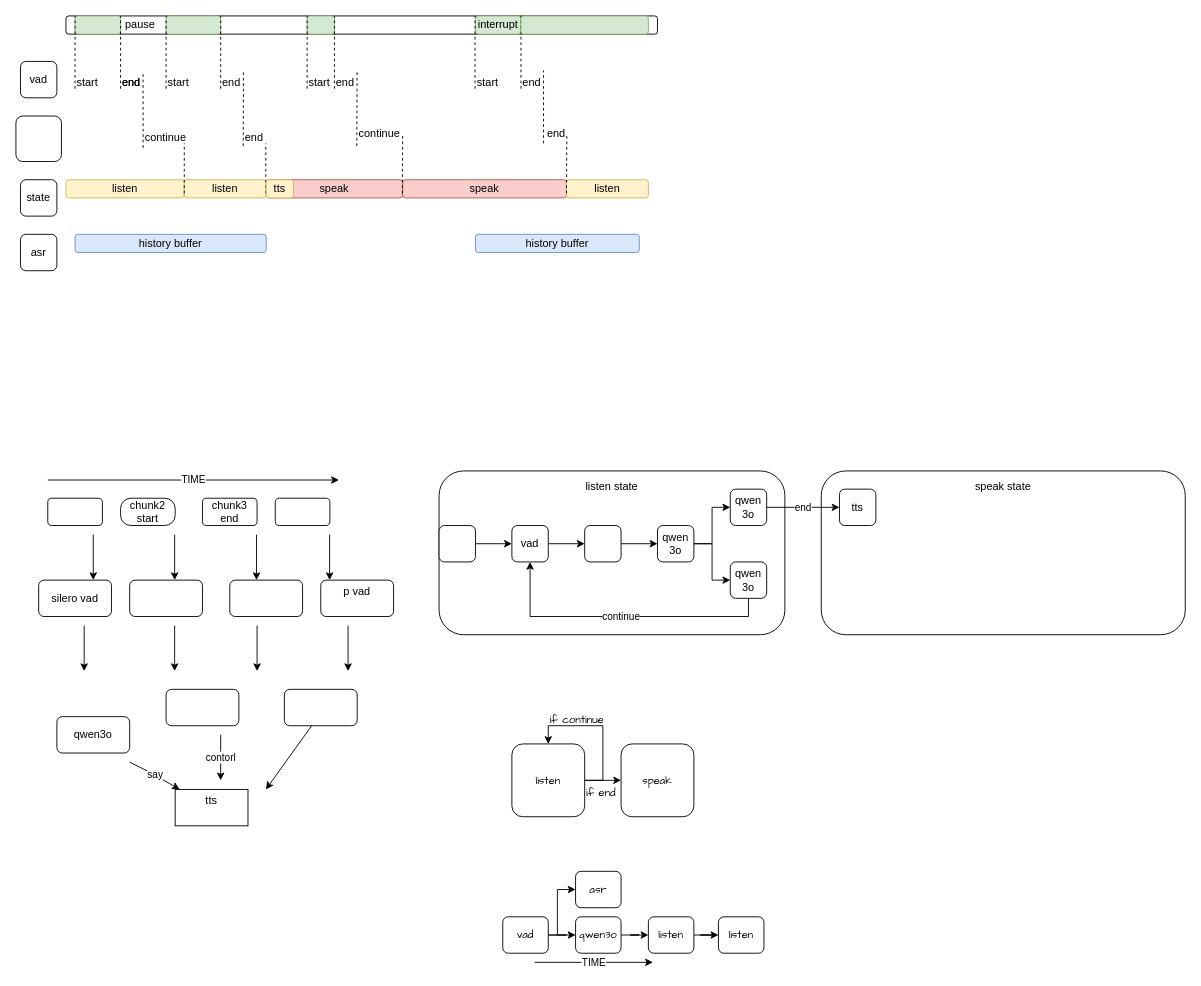
The diagram is 1201 pixels wide and 986 high, and some of its shapes have lost their labels. The shapes that lost their labels are listed below. From the top down, each one's centre as x and y in pixels, then its label:
the point at 320,24: bc
the point at 38,138: qwen3 omni decision
the point at 74,511: chunk1
the point at 302,511: chunk4
the point at 456,543: user
the point at 602,543: sv
the point at 165,598: 2pass asr
the point at 266,598: semantic vad
the point at 202,707: text bert
the point at 320,707: audio bert
